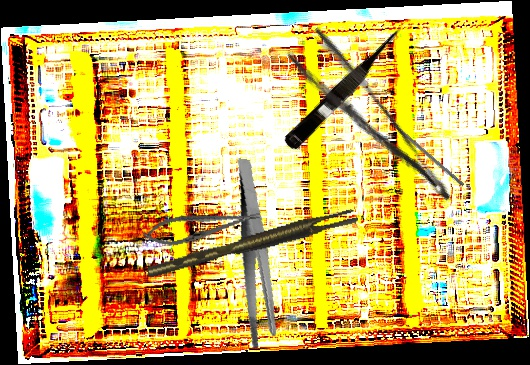Dressing Forceps: (284, 23, 457, 227), (208, 158, 303, 351)
Hook Surgical: (379, 111, 466, 188)
Micro Scissor: (281, 19, 413, 156)
Needle Holder: (141, 201, 263, 252)
Tissue Forceps: (143, 207, 361, 278)
